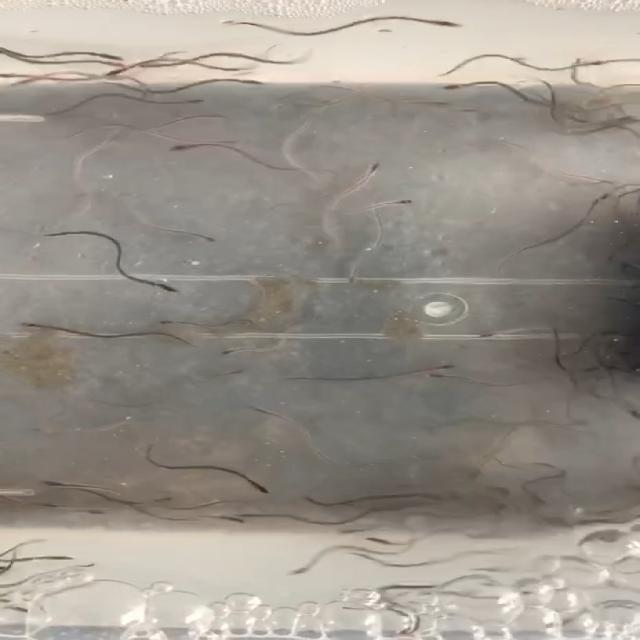active_glass_eel: (147, 278, 195, 306), (278, 561, 324, 585), (425, 368, 458, 397), (215, 76, 280, 90), (441, 77, 484, 98), (44, 551, 94, 569), (53, 119, 80, 147), (427, 16, 464, 36), (345, 158, 385, 175), (238, 486, 280, 502), (266, 99, 314, 113), (364, 530, 399, 549), (210, 513, 254, 528), (149, 311, 184, 329), (202, 230, 230, 252), (18, 314, 50, 333), (90, 46, 124, 63), (69, 505, 113, 518), (209, 343, 249, 357), (428, 360, 466, 374), (177, 94, 208, 110), (167, 143, 203, 156), (477, 326, 503, 344), (198, 112, 230, 126), (149, 496, 181, 510), (580, 58, 611, 72), (524, 496, 554, 510), (247, 403, 279, 416), (101, 67, 138, 78), (589, 194, 617, 208), (36, 478, 70, 489), (395, 196, 419, 211), (222, 368, 245, 382), (44, 499, 64, 515), (332, 529, 361, 537)
